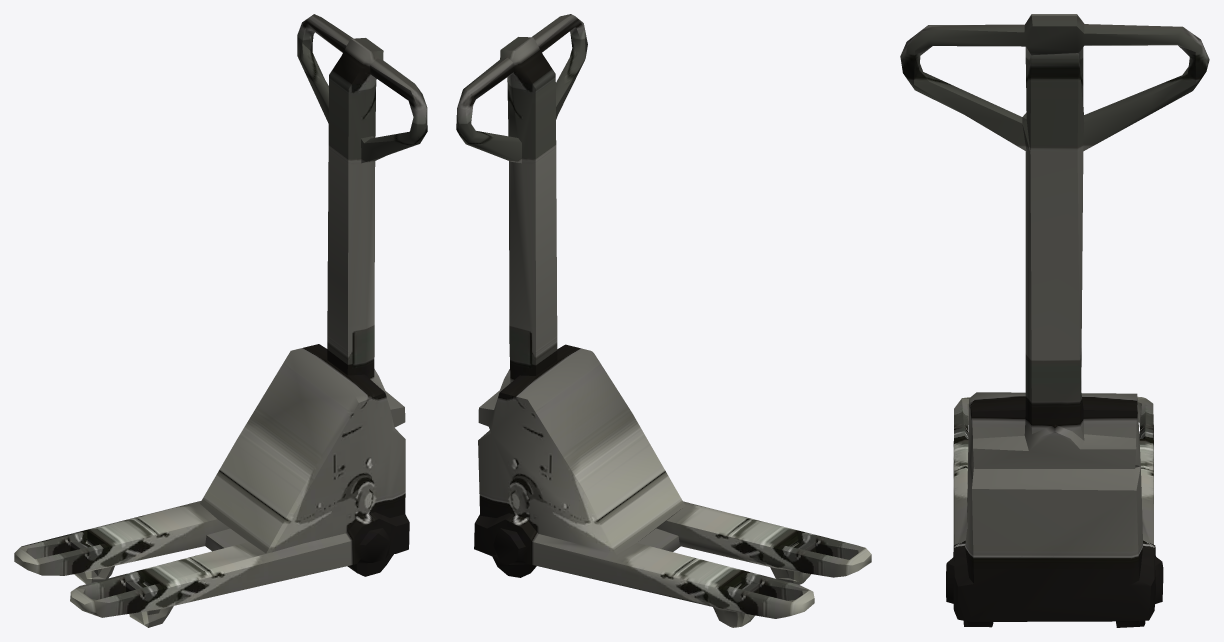
3 views of the same model, side by side, from view 1: azimuth 30°, elevation 25°; view 2: azimuth 150°, elevation 25°; view 3: azimuth 270°, elevation 25° (orthographic). The views are drawn at different scales.
Visible parts, largest first — view 1: Decor_pallet_jack_a; view 2: Decor_pallet_jack_a; view 3: Decor_pallet_jack_a.
Boxes of the visible parts, bbox=[...] form: Decor_pallet_jack_a: bbox=[14, 14, 427, 627]; Decor_pallet_jack_a: bbox=[456, 14, 871, 627]; Decor_pallet_jack_a: bbox=[900, 14, 1209, 627].
Size of the model in its own units: 0.8239 by 1.2 by 0.5369.
1 material, 1 textured.
